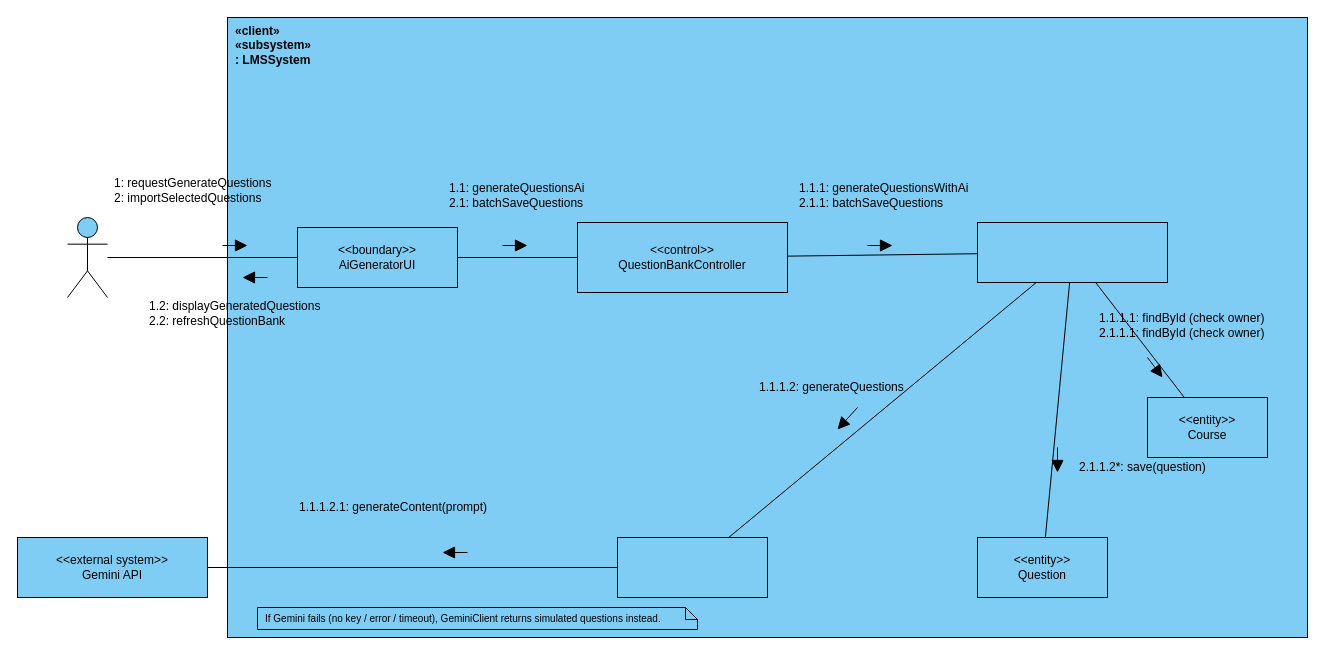
Image size: 1325x655. Some labels were removed from this diagram. The shapes that lost their labels are listed below. From the top down, each one's centre as x and y in pixels, then its label:
At pixel 87 257: "<<external user>> Teacher".
At pixel 1072 252: "<<control>> QuestionBankService".
At pixel 692 567: "<<boundary>> GeminiClient".
